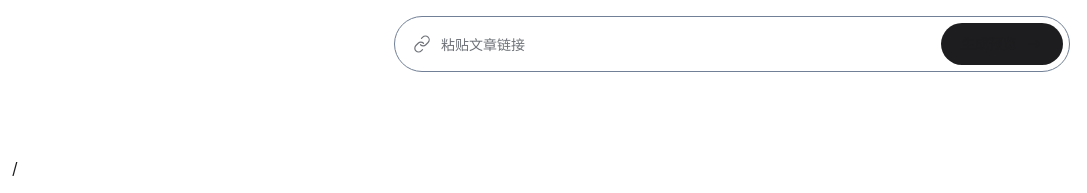
it: New 页面 › 输入后清除错误
The image size is (1087, 193).
Type "abc" into the field labelled "文章链接" at (686, 44), box [441,23,931,65]
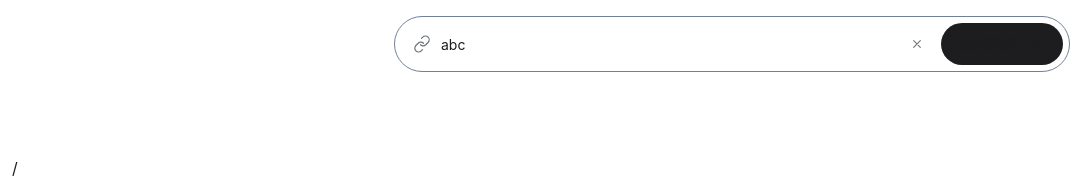
Click the button "生成预览" at (1002, 44), box [941,23,1063,65]
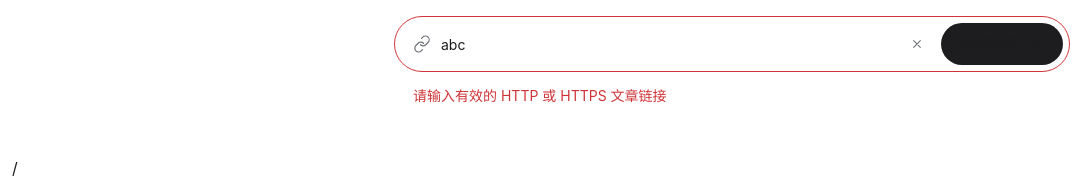
Result: the message "请输入有效的 HTTP 或 HTTPS 文章链接" is shown at [413,87,667,104]
Type ".com" into the field named "文章链接" at (667, 44), box [441,23,893,65]
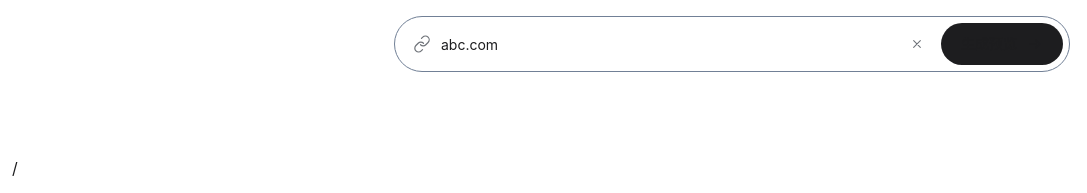
Result: the message "请输入有效的 HTTP 或 HTTPS 文章链接" is gone
